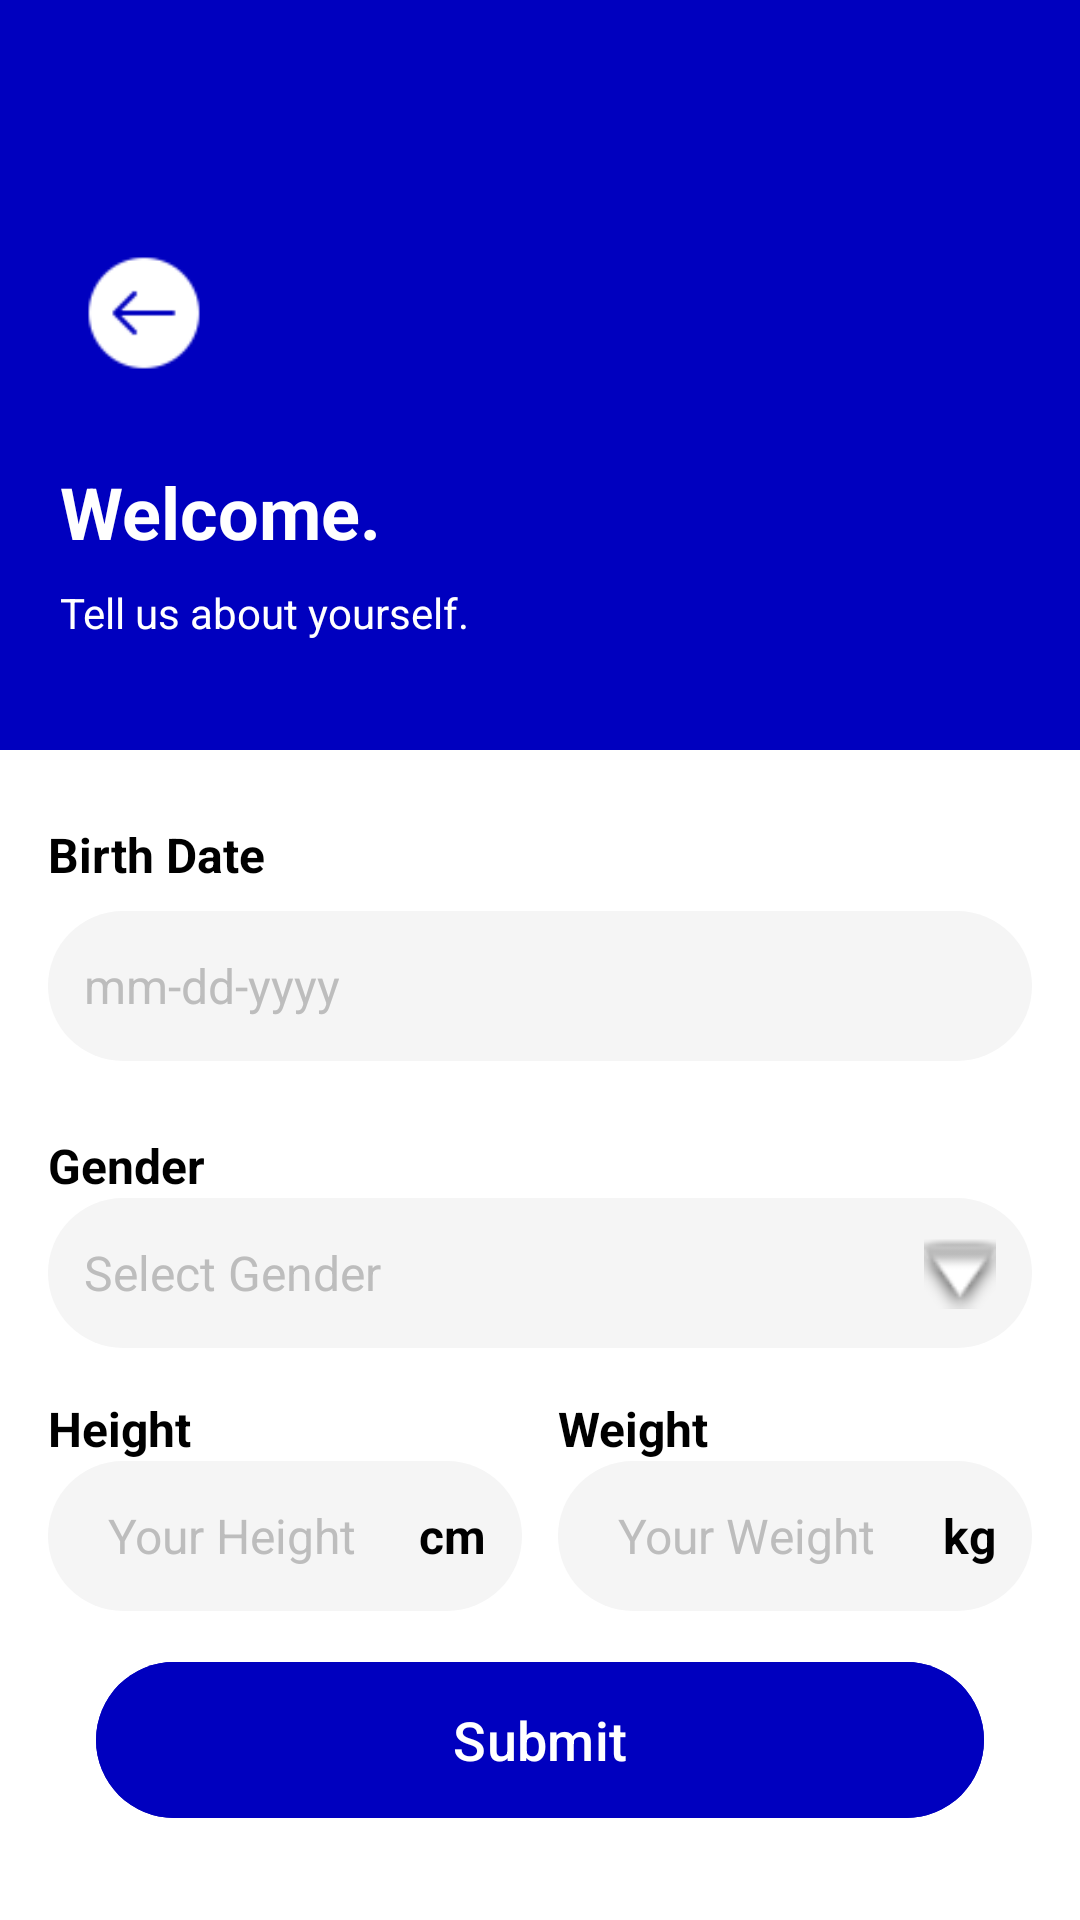

Where to tap for icons on this 1080px×1920px app screen, as point (x, y):
arrow down float: point (960, 1274)
Back: point (144, 313)
